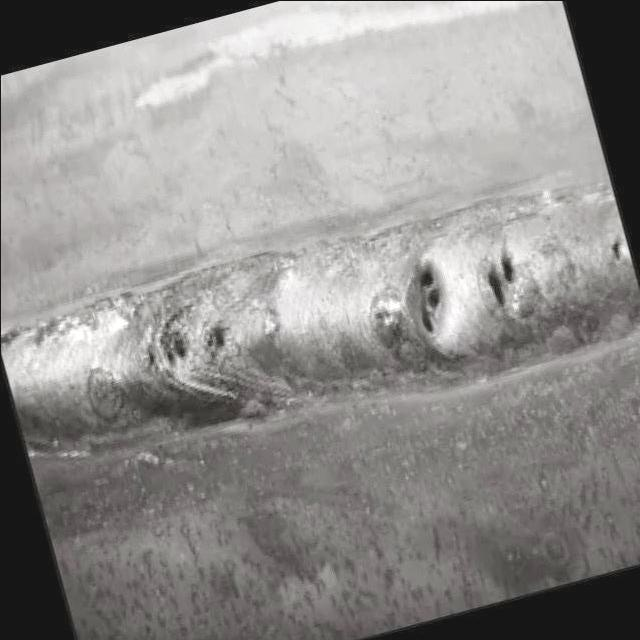defect: (482, 239, 525, 316), (413, 254, 448, 344), (143, 324, 194, 372), (194, 313, 233, 360), (608, 233, 630, 266)
